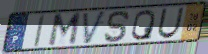I: (32, 13, 46, 49)
M: (47, 11, 83, 48)
Q: (130, 8, 157, 42)
S: (103, 9, 132, 43)
U: (156, 7, 186, 40)
V: (82, 9, 108, 46)
